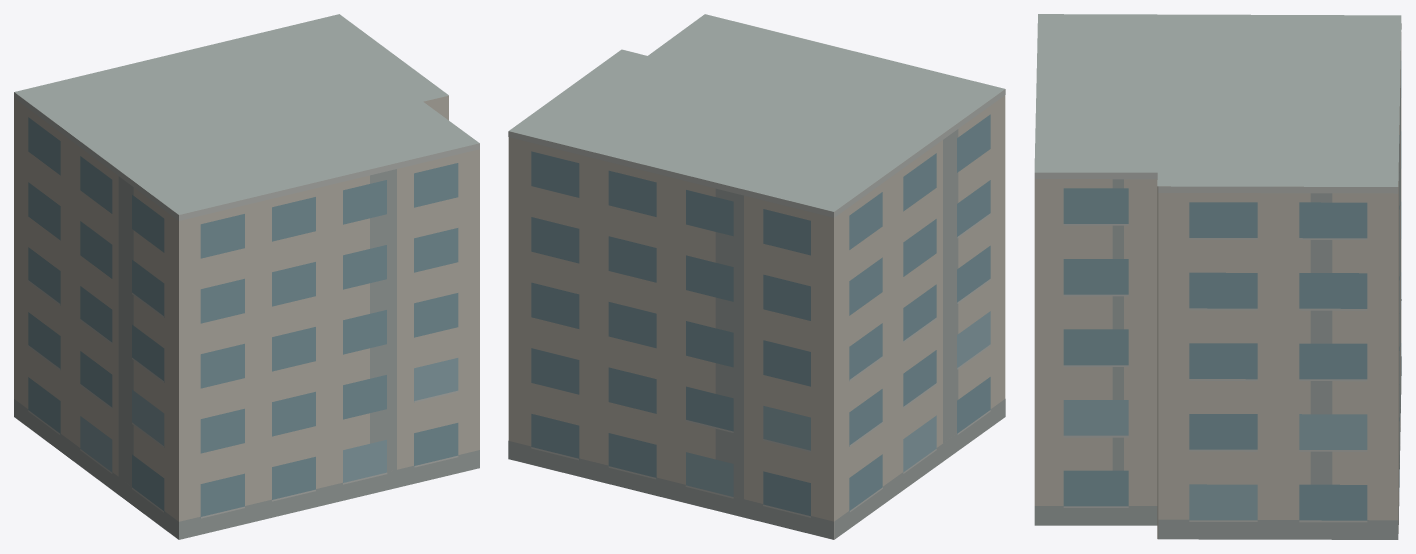
File: survey-upis-32955547.glb
3 renders of one model, left to right at view 1: azimuth 30°, elevation 25°; view 2: azimuth 150°, elevation 25°; view 3: azimuth 270°, elevation 25°, orthographic. The views are drawn at different scales.
Visible parts, largest first — view 1: survey-upis-32955547.tmp; view 2: survey-upis-32955547.tmp; view 3: survey-upis-32955547.tmp.
Part boxes in pixels (x1,y1,x2,y2): survey-upis-32955547.tmp: (14,14,479,539); survey-upis-32955547.tmp: (508,14,1005,539); survey-upis-32955547.tmp: (1034,14,1401,539).
Bounding box in the file's own units: 14 × 13.3 × 12.55.
